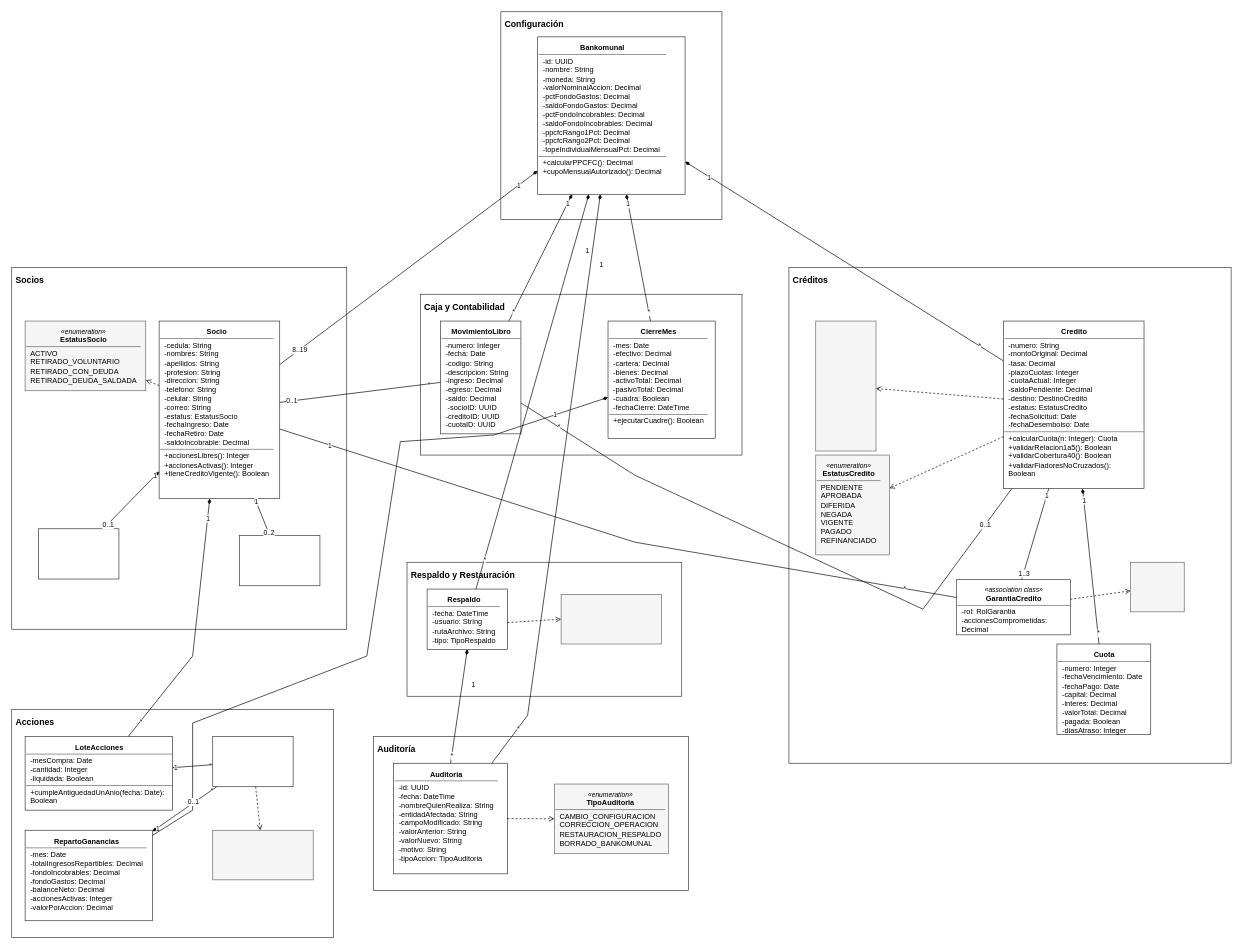
Image size: 1243x949. Some labels were removed from this diagram. Each missing label, with the centre of its shape:
"Beneficiario -nombre: String -cedula: String -parentesco: String" goes at [78,553].
"PagoGanancia -monto: Decimal -estado: EstadoPago -fechaPago: Date" goes at [252,761].
"Protegido -nombre: String -cedula: String -parentesco: String" goes at [279,560].
"«enumeration» DestinoCredito AH ARE CVR CV ED GP OT PR SL SP" goes at [845,385].
"«enumeration» EstadoPago PAGADA PENDIENTE" goes at [262,855].
"«enumeration» RolGarantia TITULAR FIADOR" goes at [1157,587].
"«enumeration» TipoRespaldo RESPALDO RESTAURACION" goes at [611,619].
